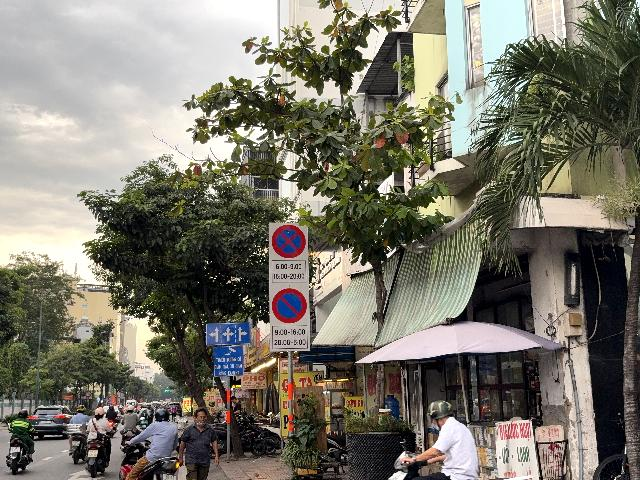cam-do-xe: (271, 288, 307, 323)
cam-dung-va-do-xe: (272, 224, 306, 259)
